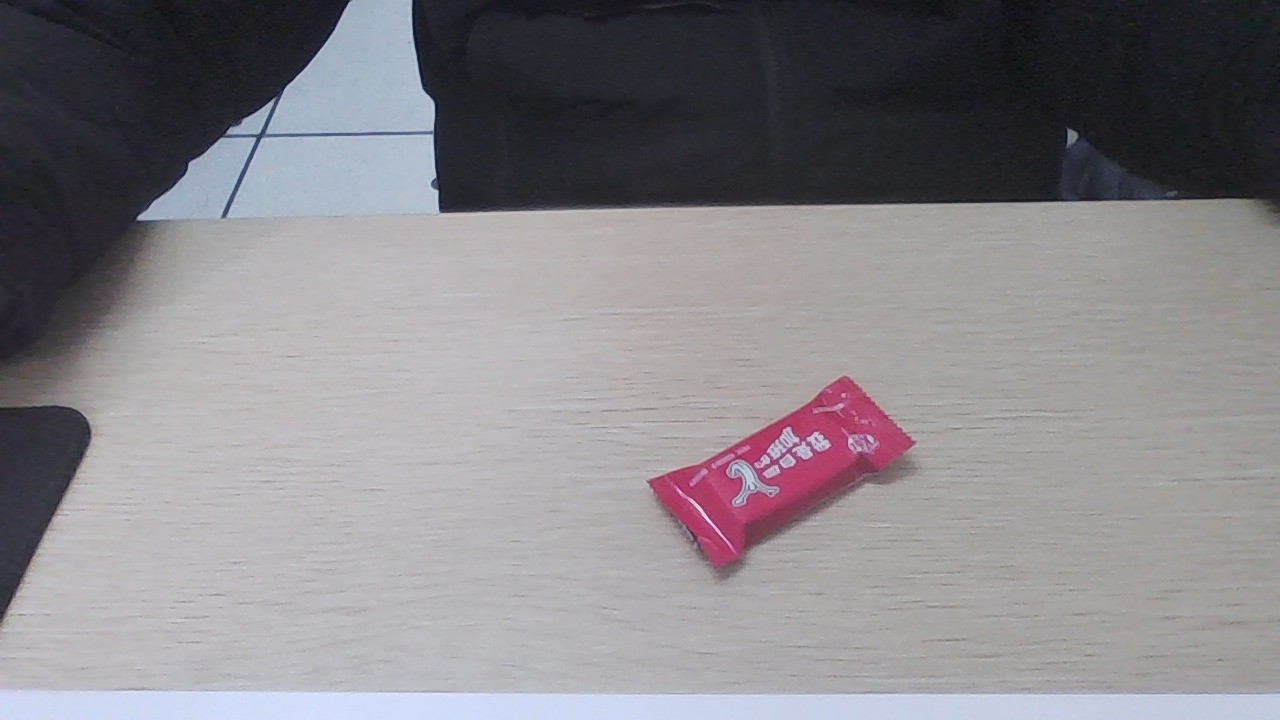CY-chocolate: (666, 388, 880, 553)
